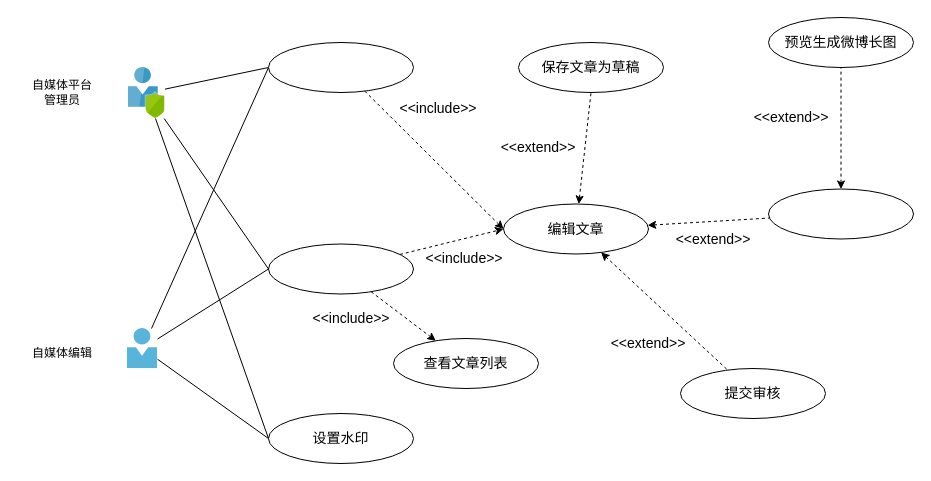
Image size: 931x481. Some labels were removed from this diagram. Each missing label, with the centre of its shape:
创建新文章: the point at 341,67
管理文章: the point at 341,268
预览文章发布效果: the point at 841,213
